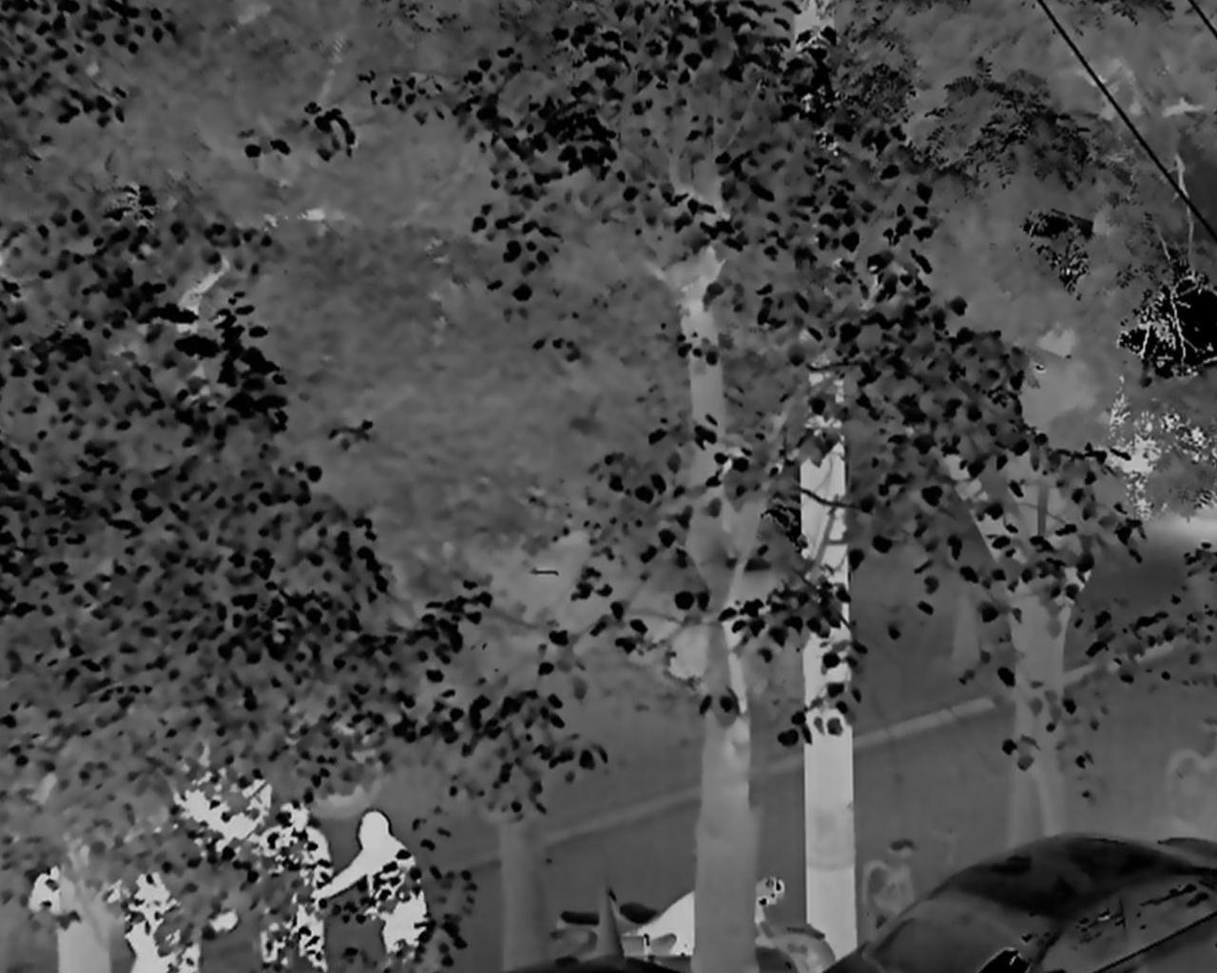person: (320, 811, 432, 964), (261, 797, 330, 973)
